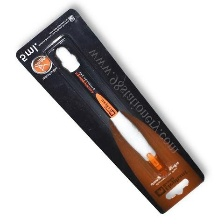correction_fluid: (47, 43, 172, 183)
